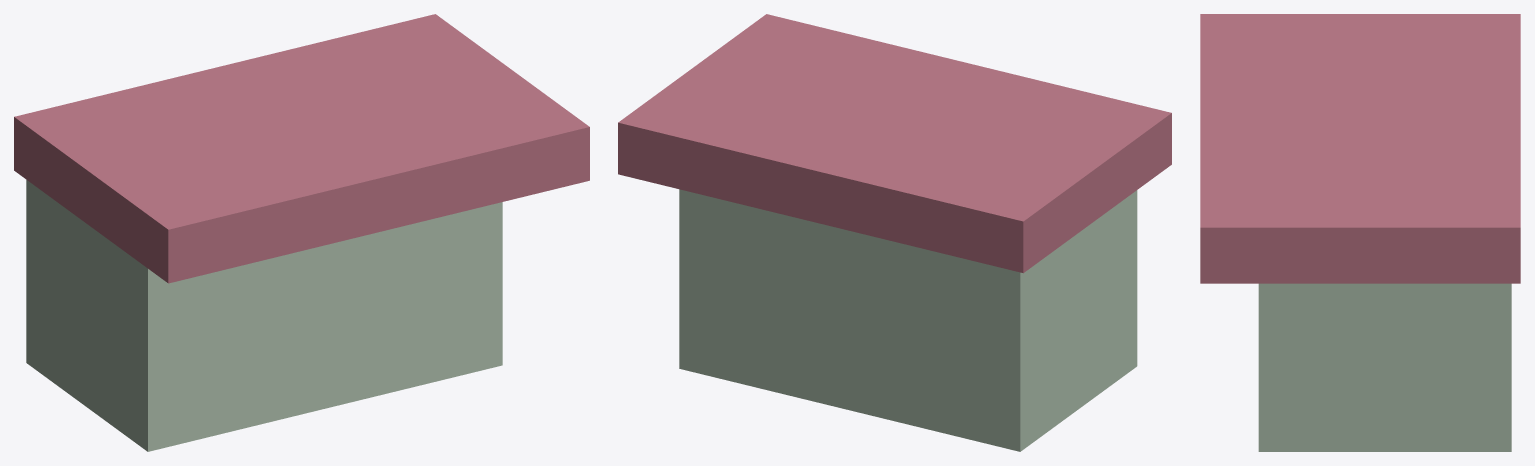
The model's file is 199531_pred.glb.
3 views of the same model, side by side, from view 1: azimuth 30°, elevation 25°; view 2: azimuth 150°, elevation 25°; view 3: azimuth 270°, elevation 25° (orthographic). The views are drawn at different scales.
Visible parts, largest first — view 1: world; view 2: world; view 3: world.
Boxes of the visible parts, x1,y1,x2,y2 form: world: (14, 14, 589, 451); world: (618, 14, 1171, 451); world: (1200, 14, 1520, 451).
Bounding box in the file's own units: 8.2 × 4.55 × 5.2.
